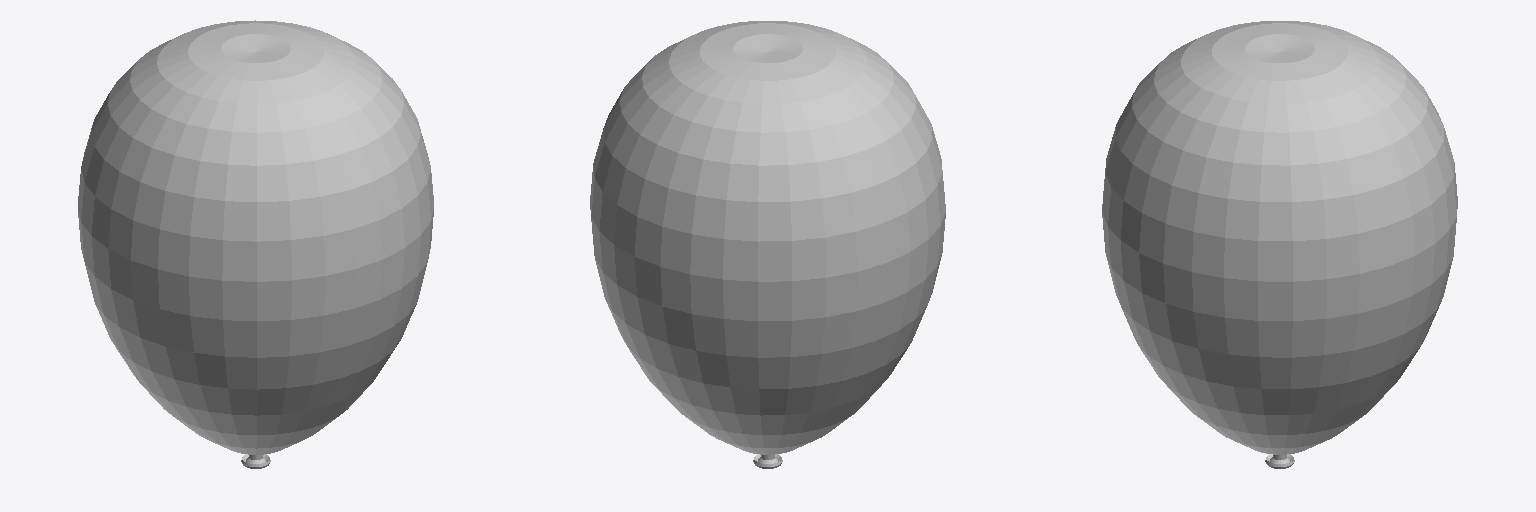
File: baloon.obj
The picture shows the model from 3 angles: view 1: azimuth 30°, elevation 25°; view 2: azimuth 150°, elevation 25°; view 3: azimuth 270°, elevation 25°; orthographic projection.
Visible parts, largest first — view 1: Balloon_Sphere.001; view 2: Balloon_Sphere.001; view 3: Balloon_Sphere.001.
Boxes of the visible parts, <box> form: Balloon_Sphere.001: <box>78,20,433,468</box>; Balloon_Sphere.001: <box>590,21,945,468</box>; Balloon_Sphere.001: <box>1102,21,1457,468</box>.
Size of the model in its own units: 10.51 by 13.51 by 10.51.